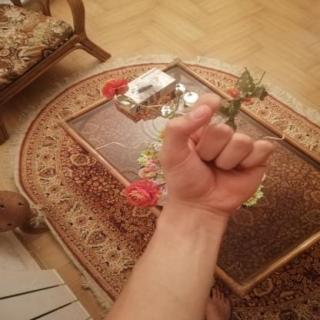FAA: (148, 84, 284, 223)
